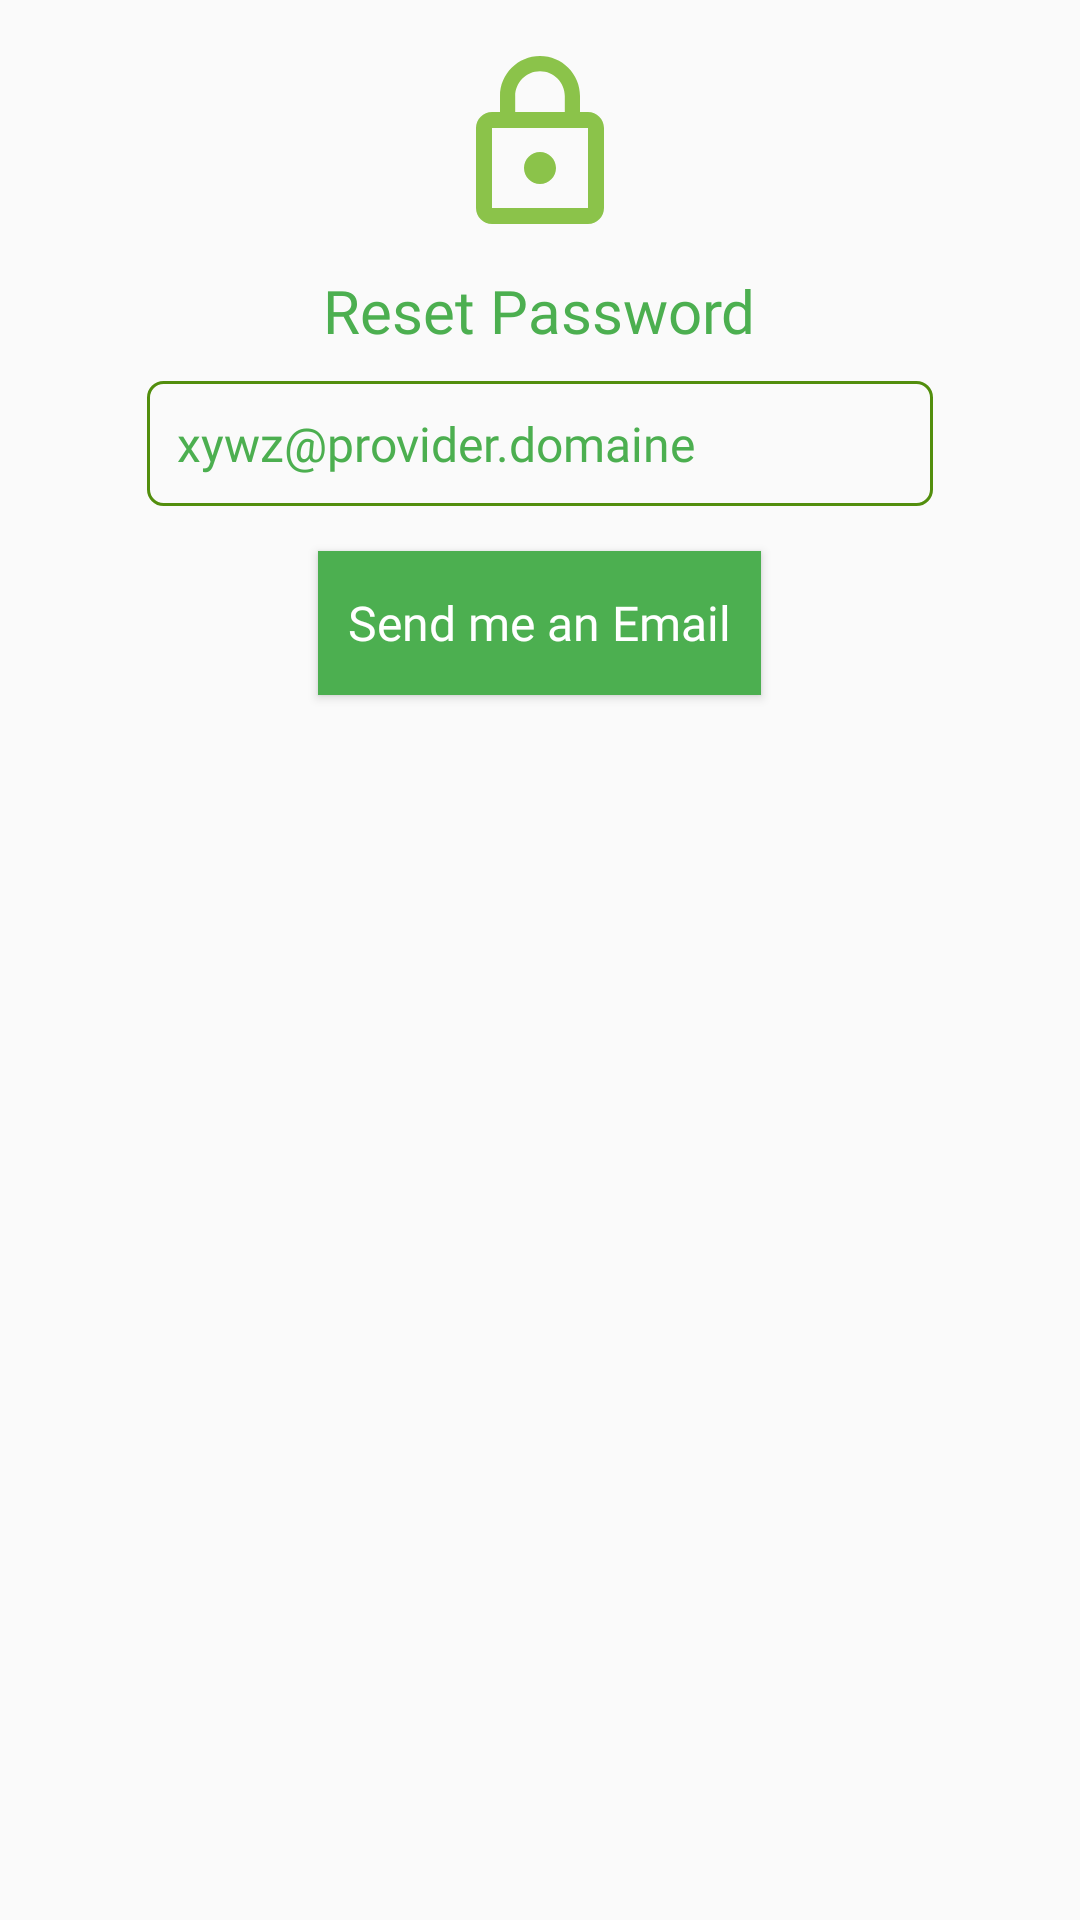

Locate icon controls on the screen. Image size 1080x1920, boxes as {"left": x1, "top": y1, "right": x2, "bottom": y2}.
lock: {"left": 476, "top": 56, "right": 604, "bottom": 224}
